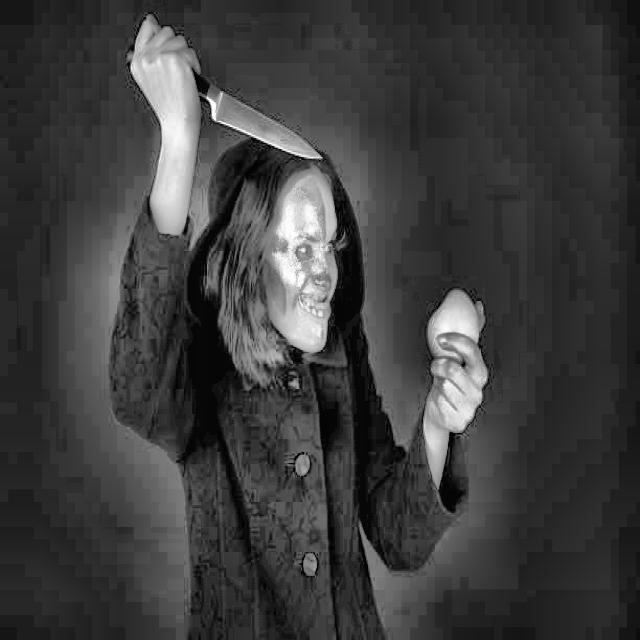pisau: (117, 13, 329, 168)
